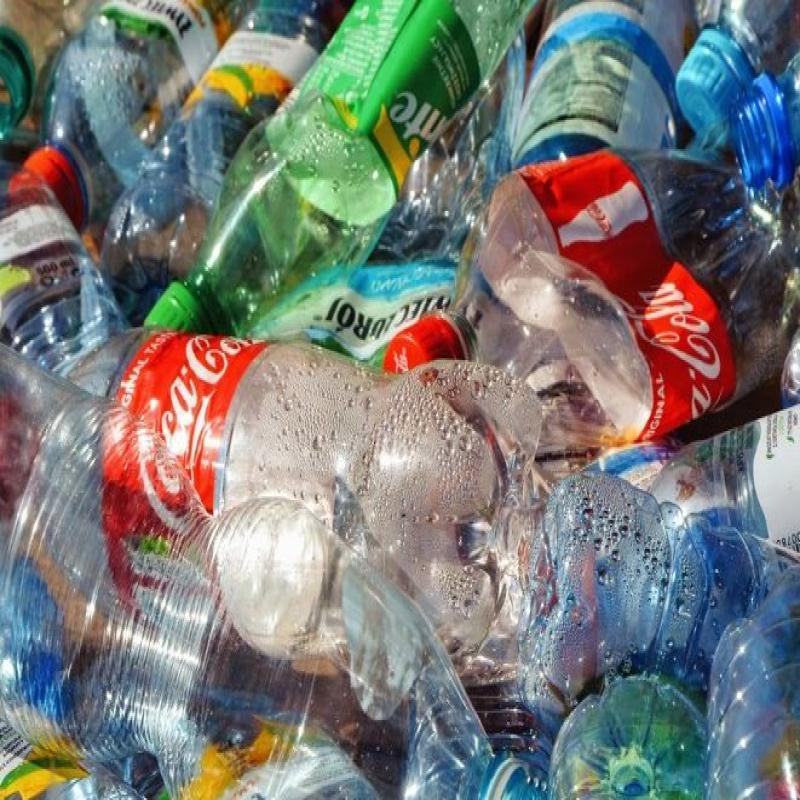botella: (55, 310, 495, 669), (148, 0, 542, 348), (389, 144, 800, 463), (95, 0, 342, 333), (521, 478, 800, 712), (11, 0, 246, 225), (0, 169, 126, 398), (544, 662, 722, 800), (713, 557, 800, 800), (673, 0, 800, 142), (728, 30, 800, 189)
